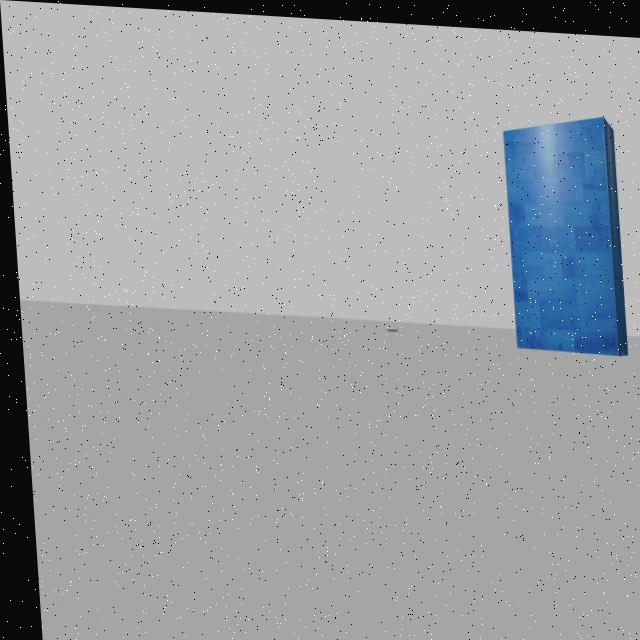bowl: (373, 307, 402, 339)
shelf: (484, 94, 636, 367)
